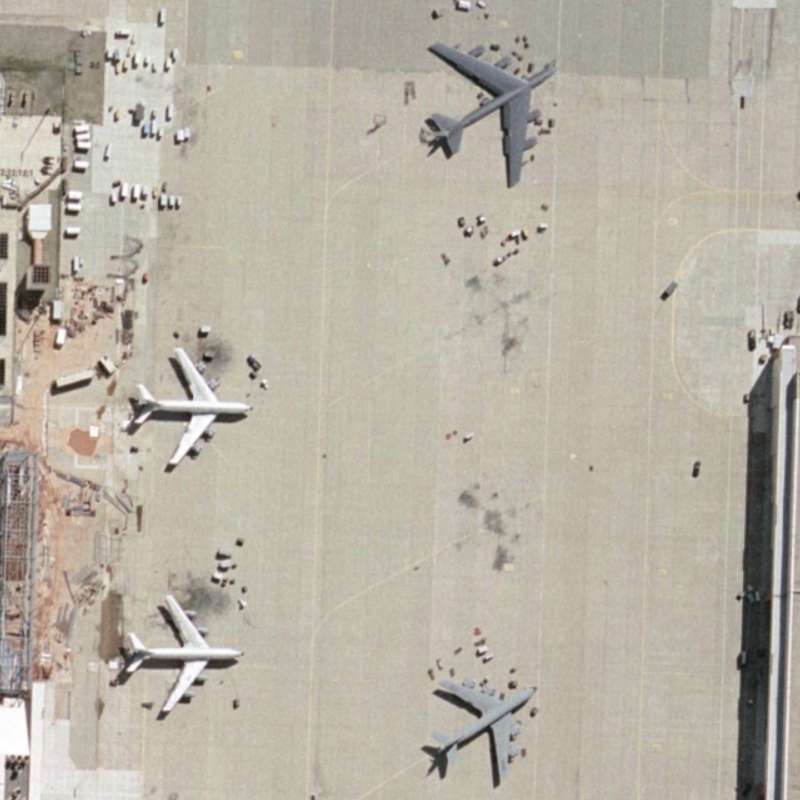A11: (125, 339, 255, 472), (119, 589, 244, 722)
A14: (421, 668, 545, 789)
A8: (416, 31, 568, 192)
